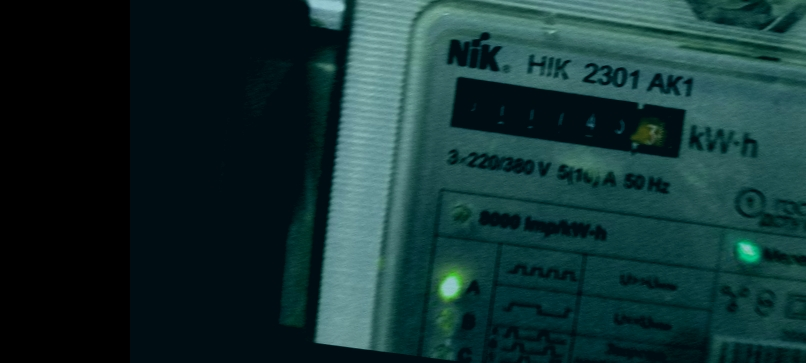0: (464, 87, 481, 116)
1: (524, 94, 540, 124), (496, 91, 509, 119)
3: (612, 109, 630, 138), (642, 122, 659, 149)
4: (582, 105, 600, 134)
7: (553, 98, 571, 128)
screen: (438, 65, 699, 171)
